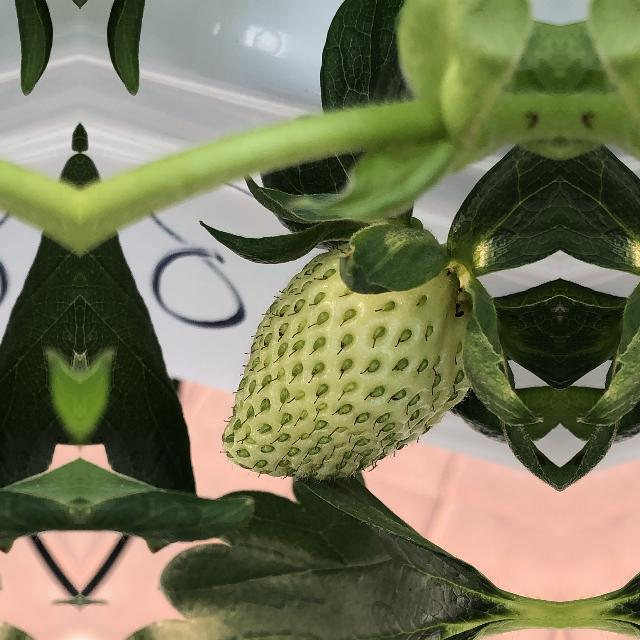Health_25: (215, 223, 489, 492)
